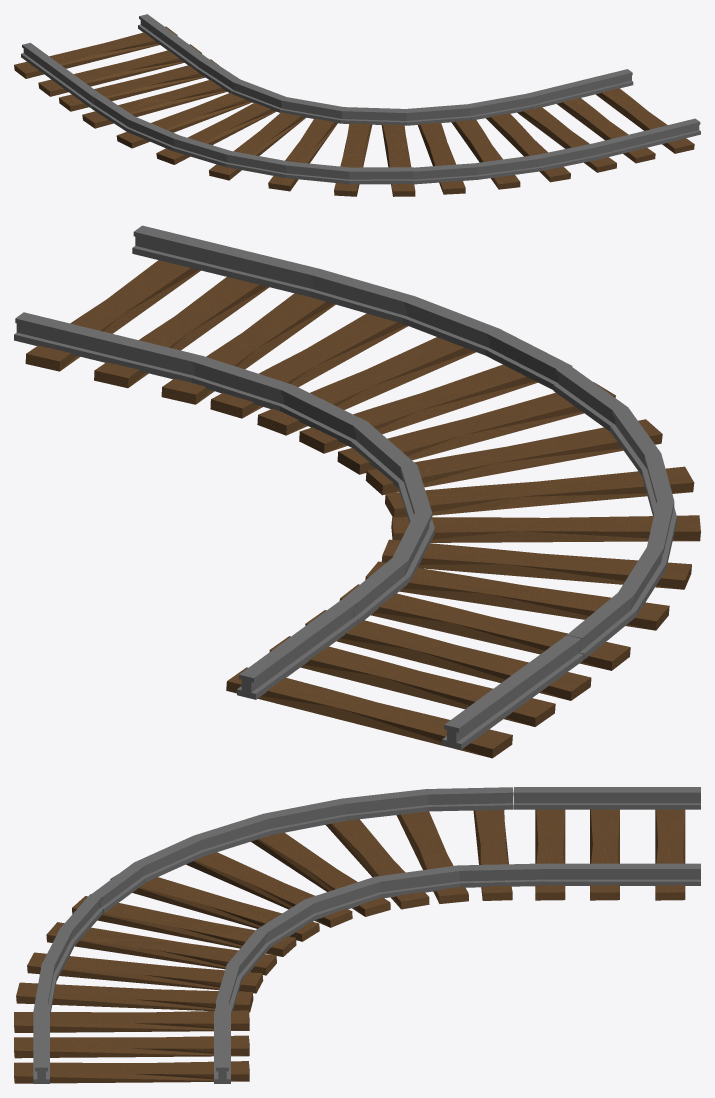
Rendered from Rail_Track_Curve_01.fbx.
3 views of the same model, one above another, from view 1: azimuth 30°, elevation 25°; view 2: azimuth 150°, elevation 25°; view 3: azimuth 270°, elevation 25° (orthographic). The views are drawn at different scales.
Visible parts, largest first — view 1: Model, Group14, Group15, Group8, Group6, Group2, Group22, Group1, Group26, Group24, Group12, Group4 (+22 smaller); view 2: Model, Group24, Group28, Group26, Group27, Group14, Group1, Group6, Group15, Group8, Group2, Group3 (+22 smaller); view 3: Model, Group12, Group4, Group10, Group7, Group13, Group16, Group3, Group27, Group28, Group24, Group26 (+22 smaller).
Boxes of the visible parts, x1,y1,x2,y2 form: Model: (21,14,205,107); Group14: (14,26,177,78); Group15: (38,44,201,96); Group8: (59,59,219,111); Group6: (82,80,226,128); Group2: (594,118,700,159); Group22: (527,69,633,109); Group1: (116,93,252,148); Group26: (156,102,276,164); Group24: (209,112,305,180); Group12: (557,97,655,163); Group4: (596,88,694,153); Model: (237,600,583,749); Group24: (391,515,700,542); Group28: (385,466,694,517); Group26: (381,539,691,589); Group27: (365,419,662,495); Group14: (226,667,512,758); Group1: (365,561,669,630); Group6: (339,584,630,670); Group15: (269,636,555,726); Group8: (305,610,591,700); Group2: (132,225,320,296); Group3: (337,382,615,474); Model: (514,787,700,885); Group12: (14,1035,249,1058); Group4: (14,1061,249,1083); Group10: (14,1010,249,1032); Group7: (16,982,253,1012); Group13: (27,952,263,993); Group16: (46,922,276,975); Group3: (72,896,296,956); Group27: (110,874,319,941); Group28: (186,852,352,927); Group24: (251,832,390,916); Group26: (325,819,429,909).
Bounding box in the file's own units: 965 × 38.68 × 968.
